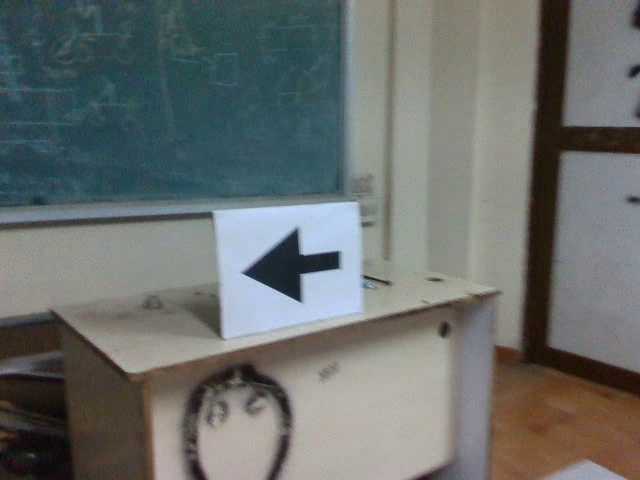Left: (232, 221, 351, 307)
